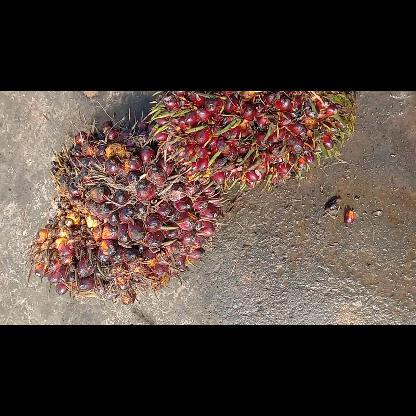Kurang masak: (144, 91, 354, 190)
TBS masak: (28, 110, 228, 304)
